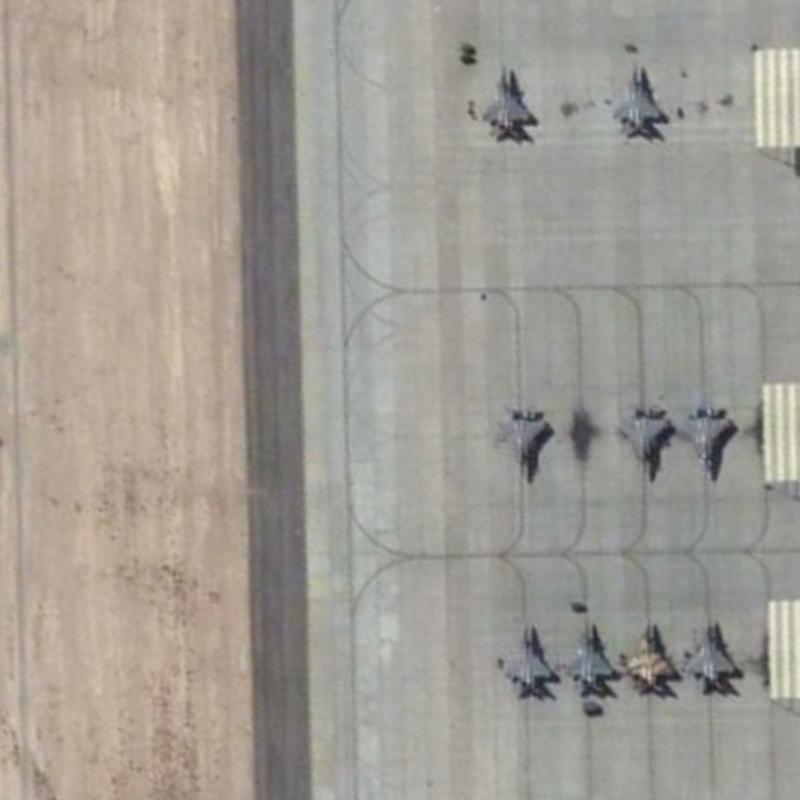A13: (612, 397, 676, 488), (494, 618, 558, 706), (608, 61, 674, 146), (487, 399, 553, 484), (681, 396, 740, 488), (681, 615, 745, 699), (620, 615, 679, 705), (480, 60, 542, 145), (560, 611, 617, 699)
